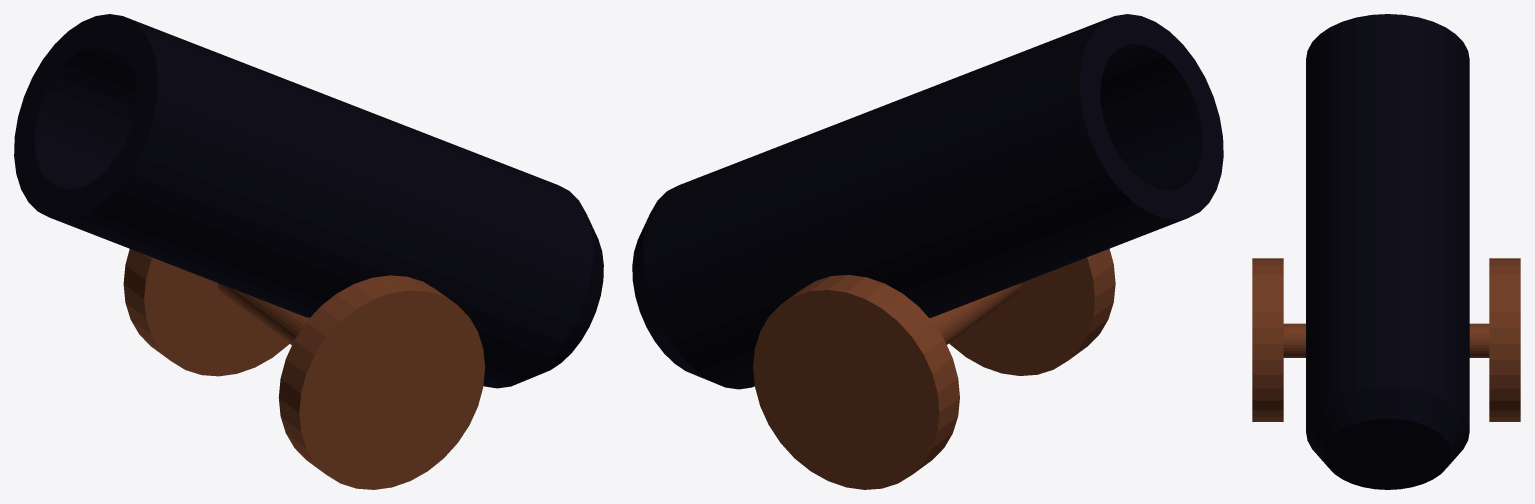
File: Cannon.fbx
3 views of the same model, side by side, from view 1: azimuth 30°, elevation 25°; view 2: azimuth 150°, elevation 25°; view 3: azimuth 270°, elevation 25° (orthographic). The views are drawn at different scales.
Visible parts, largest first — view 1: Cylinder, Cylinder.003, Cylinder.002, Cylinder.001; view 2: Cylinder, Cylinder.002, Cylinder.003, Cylinder.001; view 3: Cylinder, Cylinder.002, Cylinder.003, Cylinder.001.
Part boxes in pixels (x1=…): Cylinder: x1=14, y1=14, x2=603, y2=388; Cylinder.003: x1=278, y1=275, x2=484, y2=489; Cylinder.002: x1=123, y1=249, x2=289, y2=376; Cylinder.001: x1=217, y1=283, x2=309, y2=344; Cylinder: x1=632, y1=14, x2=1223, y2=389; Cylinder.002: x1=753, y1=274, x2=959, y2=489; Cylinder.003: x1=949, y1=248, x2=1115, y2=375; Cylinder.001: x1=930, y1=283, x2=1021, y2=344; Cylinder: x1=1306, y1=14, x2=1469, y2=489; Cylinder.002: x1=1489, y1=258, x2=1520, y2=421; Cylinder.003: x1=1252, y1=258, x2=1283, y2=421; Cylinder.001: x1=1283, y1=323, x2=1489, y2=357.
Size of the model in its own units: 589 by 455 by 328.
